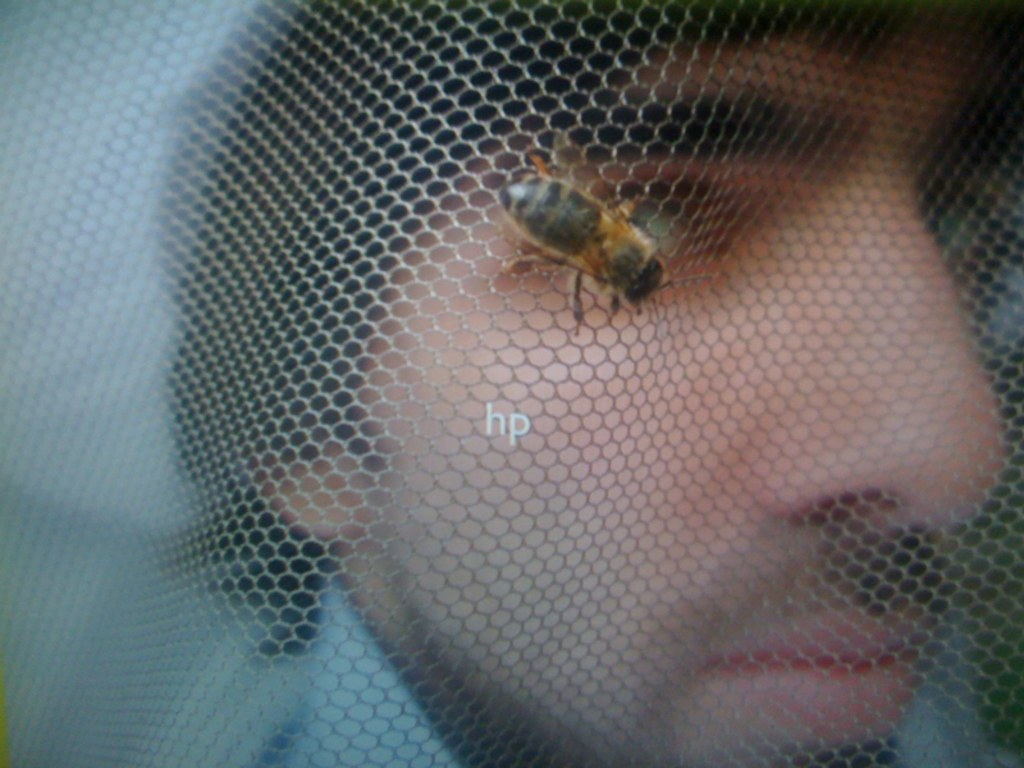bee: (0, 0, 1023, 767), (483, 148, 690, 338)
insect: (364, 6, 1018, 767)
